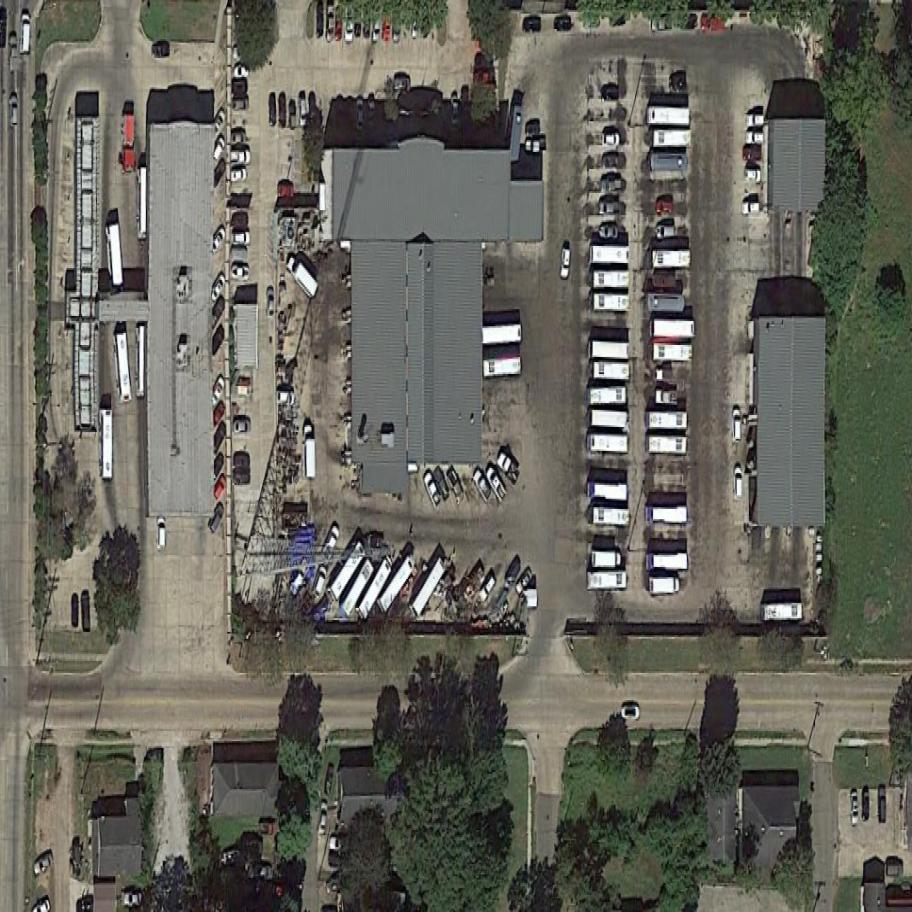large-vehicle: (325, 538, 374, 603), (355, 557, 398, 622), (408, 555, 452, 618), (375, 555, 420, 614), (337, 558, 379, 620), (282, 253, 324, 302), (115, 331, 133, 405), (647, 104, 692, 128), (99, 410, 114, 480), (483, 354, 523, 379), (109, 222, 124, 287), (653, 317, 695, 340), (653, 128, 693, 152), (589, 432, 629, 456), (645, 434, 688, 456), (759, 601, 803, 622), (652, 249, 692, 272), (652, 342, 693, 364), (588, 480, 629, 502), (482, 323, 523, 345), (591, 338, 631, 360), (591, 244, 631, 266), (593, 360, 631, 383), (593, 292, 632, 314), (646, 410, 688, 430), (647, 292, 685, 314), (591, 408, 628, 430), (646, 553, 688, 572), (591, 384, 627, 406), (590, 570, 627, 591), (645, 506, 688, 524), (649, 152, 689, 171), (593, 506, 630, 526), (138, 167, 148, 241), (594, 270, 629, 290), (304, 427, 317, 480), (137, 326, 146, 400), (648, 576, 680, 596), (593, 552, 622, 569)
small-vehicle: (489, 447, 526, 489), (481, 461, 513, 506), (317, 521, 345, 564), (420, 468, 446, 513), (468, 465, 496, 505), (204, 371, 232, 409), (203, 500, 230, 538), (443, 466, 468, 507), (204, 293, 231, 330), (27, 850, 59, 880), (203, 322, 230, 357), (431, 464, 454, 504), (501, 554, 527, 589), (205, 270, 230, 306), (205, 224, 233, 256), (510, 566, 537, 599), (208, 420, 231, 458), (475, 573, 501, 605), (205, 451, 230, 483), (207, 106, 231, 139), (204, 399, 229, 429), (208, 133, 230, 166), (310, 562, 329, 599), (18, 11, 32, 56), (653, 386, 681, 408), (210, 473, 231, 502), (558, 244, 573, 282), (600, 174, 626, 195), (701, 12, 728, 32), (80, 590, 92, 635), (654, 222, 679, 243), (601, 152, 627, 172), (523, 135, 550, 154), (650, 14, 674, 34), (666, 72, 690, 92), (652, 275, 677, 294), (230, 147, 253, 167), (247, 864, 274, 881), (230, 417, 254, 436), (620, 704, 642, 724), (732, 406, 743, 446), (229, 263, 252, 282), (677, 12, 700, 31), (473, 70, 496, 89), (324, 762, 336, 798), (231, 229, 253, 248), (410, 3, 421, 41), (598, 196, 620, 215), (656, 195, 675, 217), (326, 851, 349, 869), (156, 516, 168, 550), (318, 801, 329, 837), (231, 468, 251, 487), (383, 5, 393, 43), (878, 787, 888, 825), (599, 222, 619, 241), (600, 84, 621, 102), (150, 43, 172, 60), (372, 5, 382, 41), (742, 143, 762, 161), (522, 17, 543, 34), (743, 167, 764, 184), (451, 95, 462, 127), (326, 5, 335, 43), (885, 862, 904, 880), (70, 594, 80, 628), (353, 5, 363, 39), (734, 465, 744, 499), (742, 200, 762, 217), (746, 130, 766, 147), (746, 113, 766, 130), (231, 128, 247, 149), (73, 844, 82, 881), (356, 97, 366, 130), (121, 892, 143, 907), (231, 166, 249, 184), (330, 834, 348, 852), (345, 7, 354, 43), (335, 7, 344, 43), (232, 453, 251, 470), (554, 15, 573, 32), (602, 132, 621, 149), (851, 789, 859, 828), (367, 97, 377, 128), (862, 787, 871, 821), (233, 77, 248, 97), (269, 92, 277, 128), (393, 7, 401, 43), (316, 3, 324, 38), (300, 97, 309, 128), (232, 97, 249, 113), (610, 12, 626, 29), (258, 821, 275, 837), (233, 61, 248, 79), (524, 123, 542, 138), (583, 14, 601, 29), (364, 5, 372, 38), (279, 92, 286, 128), (267, 287, 275, 318), (278, 183, 294, 198), (289, 101, 297, 130), (393, 79, 411, 91)
